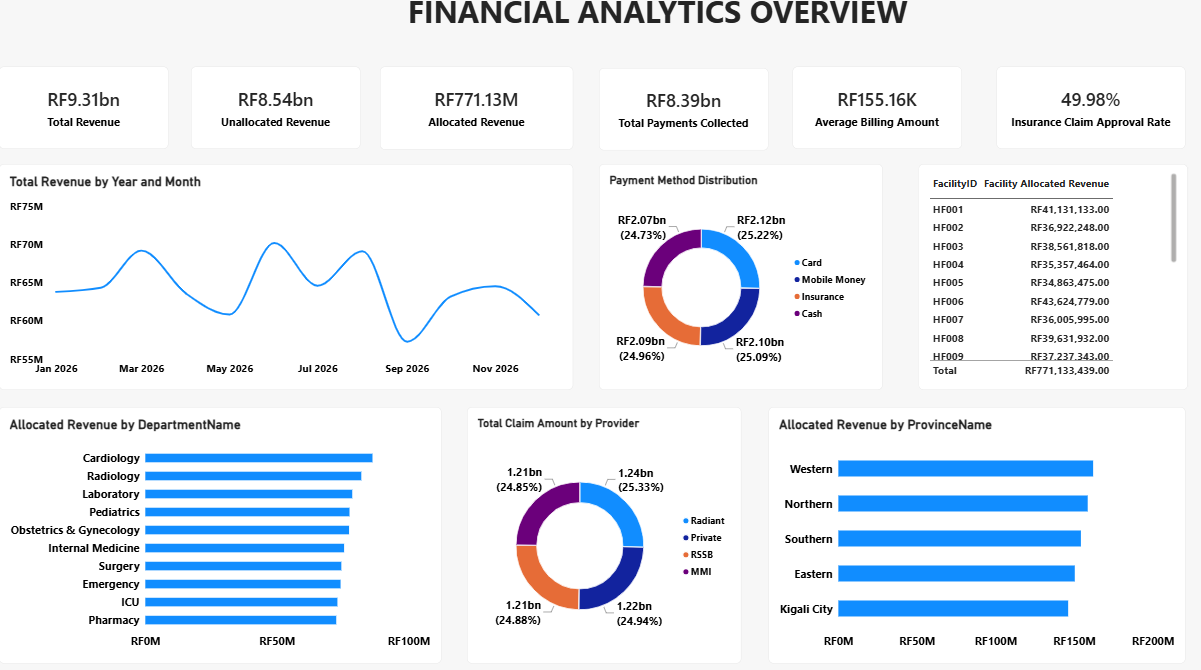

The dashboard page shown, as its layout file describes it:
{"tool":"powerbi","page":{"name":"Financial Analytics Dashboard","canvas":[1920,1080],"ordinal":3},"visuals":[{"type":"textbox","box":[416.8,0,1271.5,70.6],"z":0},{"type":"card","fields":{"Values":["Financial_KPIs.Unallocated Revenue"]},"box":[320.3,119.1,266.1,129.5],"z":1000},{"type":"card","fields":{"Values":["Financial_KPIs.Department Allocated Revenue"]},"box":[618,119.1,303.3,130.4],"z":2000},{"type":"card","fields":{"Values":["Financial_KPIs.Average Billing Amount"]},"box":[1264.3,119.1,266.1,129.5],"z":3000},{"type":"card","fields":{"Values":["Financial_KPIs.Insurance Claim Approval Rate"]},"box":[1584.6,119.1,296.7,129.5],"z":4000},{"type":"card","fields":{"Values":["Financial_KPIs.Total Revenue"]},"box":[19.8,119.1,266.1,129.5],"z":5000},{"type":"lineChart","fields":{"Category":["Dim_Calendar.Date.Variation.Date Hierarchy.Year","Dim_Calendar.Date.Variation.Date Hierarchy.Month"],"Y":["Financial_KPIs.Total Revenue"]},"box":[19.8,272.1,901.4,354.3],"z":6000},{"type":"card","fields":{"Values":["Financial_KPIs.Total Payments Collected"]},"box":[961,121.9,266.1,129.5],"z":7000},{"type":"donutChart","title":"Payment Method Distribution","fields":{"Category":["HC_Payments.Method"],"Y":["Financial_KPIs.Total Payments Collected"]},"box":[960.7,273.1,463.9,353.2],"z":8000},{"type":"tableEx","fields":{"Values":["Fact_Appointments.FacilityID","Financial_KPIs.Facility Allocated Revenue"]},"box":[1462.7,272.1,422.4,354.3],"z":9000},{"type":"donutChart","fields":{"Category":["Insurance_Claims.Provider"],"Y":["Financial_KPIs.Total Claim Amount"]},"box":[993.7,654.6,430.9,402.5],"z":10000},{"type":"clusteredBarChart","fields":{"Category":["HC_Provinces.ProvinceName"],"Y":["Financial_KPIs.Department Allocated Revenue"]},"box":[1441.1,654.6,459.2,402.7],"z":11000},{"type":"decompositionTreeVisual","fields":{"Analyze":["Financial_KPIs.Total Revenue Summary"],"ExplainBy":["HC_Departments.DepartmentName","HC_Patients.ChronicCondition","HC_Payments.Method","HC_Provinces.ProvinceName"]},"box":[0,645.2,960.7,412.1],"z":12000}]}

Visuals, with their boxes in screenshot pixels (x1, y1, x2, y2), scaled from the page's 1920x1080 canvas onto the 1201x670 screenshot:
textbox: 261 0 1056 44
card - Financial_KPIs.Unallocated Revenue: 200 74 367 154
card - Financial_KPIs.Department Allocated Revenue: 387 74 576 155
card - Financial_KPIs.Average Billing Amount: 791 74 957 154
card - Financial_KPIs.Insurance Claim Approval Rate: 991 74 1177 154
card - Financial_KPIs.Total Revenue: 12 74 179 154
lineChart - Dim_Calendar.Date.Variation.Date Hierarchy.Year x Dim_Calendar.Date.Variation.Date Hierarchy.Month: 12 169 576 389
card - Financial_KPIs.Total Payments Collected: 601 76 768 156
"Payment Method Distribution" donutChart: 601 169 891 389
tableEx - Fact_Appointments.FacilityID x Financial_KPIs.Facility Allocated Revenue: 915 169 1179 389
donutChart - Insurance_Claims.Provider x Financial_KPIs.Total Claim Amount: 622 406 891 656
clusteredBarChart - HC_Provinces.ProvinceName x Financial_KPIs.Department Allocated Revenue: 901 406 1189 656
decompositionTreeVisual - Financial_KPIs.Total Revenue Summary x HC_Departments.DepartmentName: 0 400 601 656
